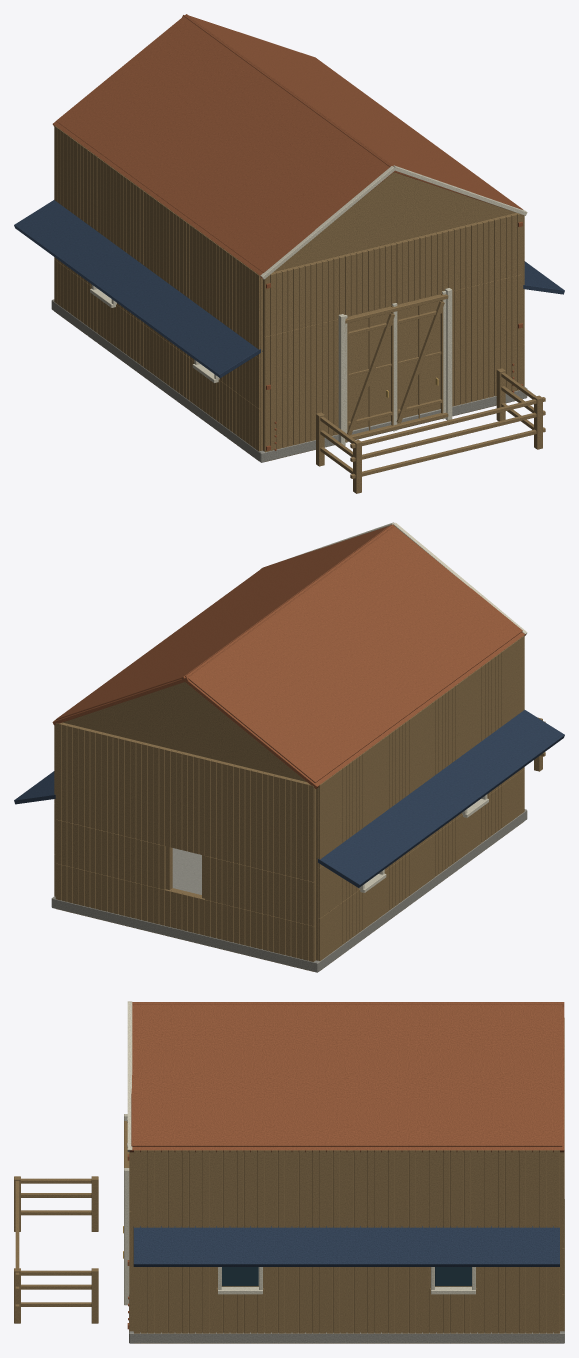
Rendered from BARN22_lod0.glb.
The picture shows the model from 3 angles, top to bottom: view 1: azimuth 30°, elevation 25°; view 2: azimuth 150°, elevation 25°; view 3: azimuth 270°, elevation 25°; orthographic projection. The views are drawn at different scales.
Visible parts, largest first — view 1: BARN22_LOD0; view 2: BARN22_LOD0; view 3: BARN22_LOD0.
Part boxes in pixels (x1,y1,x2,y2): BARN22_LOD0: [14, 14, 564, 493]; BARN22_LOD0: [14, 522, 564, 972]; BARN22_LOD0: [14, 1001, 564, 1343].
Bounding box in the file's own units: 10.71 × 7.84 × 14.22.
Materials: 10 (7 with a texture image).
